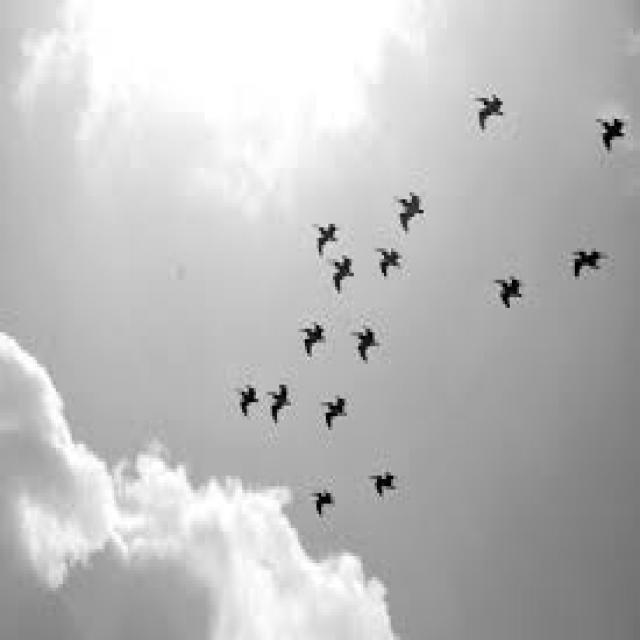bird: (554, 217, 633, 322), (455, 54, 525, 166), (566, 75, 636, 187), (384, 147, 428, 252), (224, 367, 272, 462), (296, 186, 346, 270), (488, 264, 532, 355), (312, 379, 363, 456), (344, 302, 386, 369), (282, 307, 332, 363), (330, 238, 360, 326), (374, 238, 414, 298), (263, 367, 296, 437), (363, 452, 400, 512), (300, 486, 342, 532)
